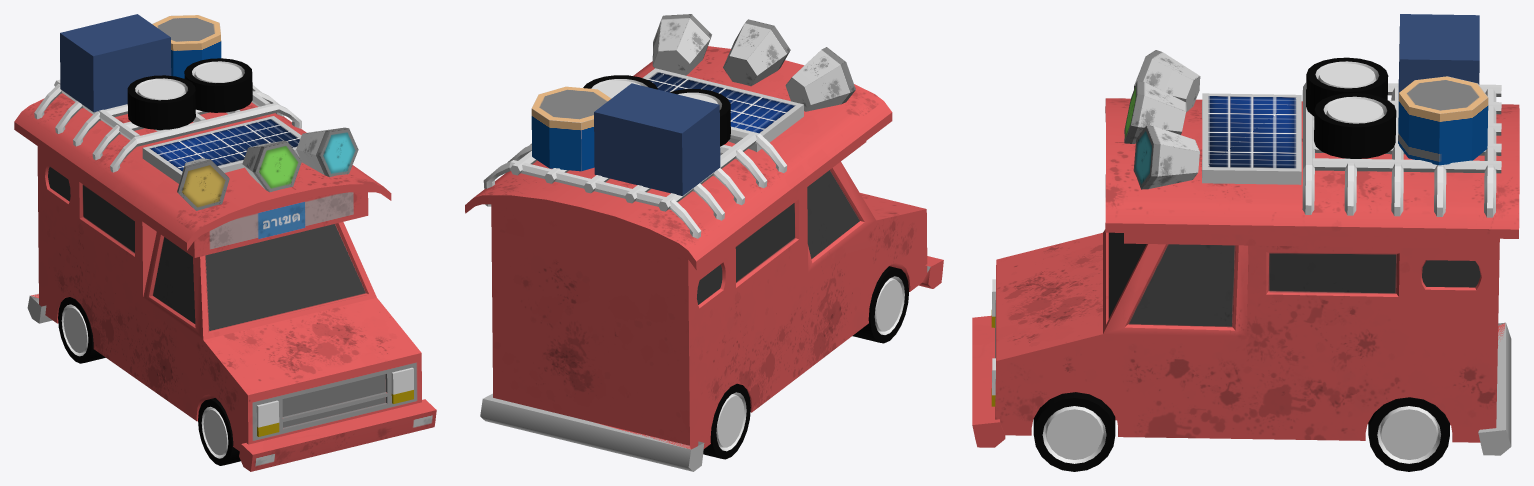
The model's file is songThaew.fbx.
The picture shows the model from 3 angles, left to right: view 1: azimuth 30°, elevation 25°; view 2: azimuth 150°, elevation 25°; view 3: azimuth 270°, elevation 25°; orthographic projection. The views are drawn at different scales.
Visible parts, largest first — view 1: pCube12, pCylinder5, pCylinder6; view 2: pCube12, pCylinder5, pCylinder6; view 3: pCube12, pCylinder3, pCylinder4.
Boxes of the visible parts, x1,y1,x2,y2 form: pCube12: [14, 14, 436, 471]; pCylinder5: [198, 398, 240, 465]; pCylinder6: [58, 297, 105, 363]; pCube12: [465, 14, 943, 471]; pCylinder5: [852, 266, 909, 343]; pCylinder6: [703, 383, 750, 459]; pCube12: [972, 14, 1519, 455]; pCylinder3: [1033, 392, 1115, 471]; pCylinder4: [1368, 397, 1449, 471].
Bounding box in the file's own units: 8.95 × 12.76 × 17.37.
Materials: 12 (7 with a texture image).
